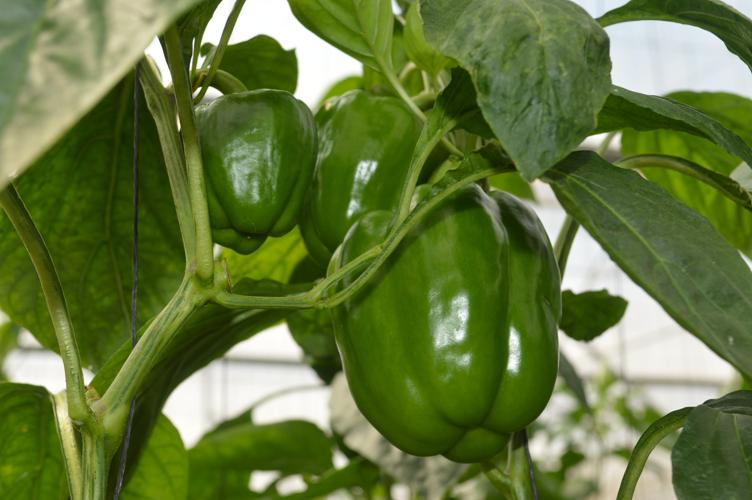BellPepper: (331, 188, 563, 454), (198, 88, 319, 254), (299, 89, 420, 246)
